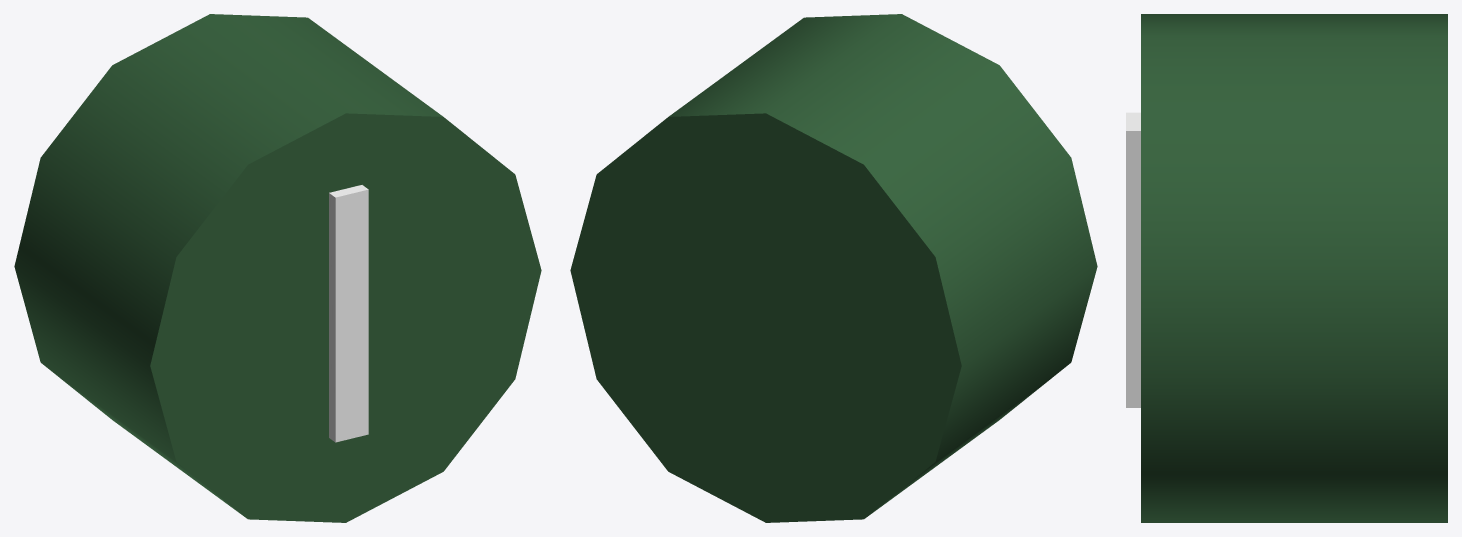
File: acb_inner_btn2.fbx
3 views of the same model, side by side, from view 1: azimuth 30°, elevation 25°; view 2: azimuth 150°, elevation 25°; view 3: azimuth 270°, elevation 25° (orthographic). The views are drawn at different scales.
Parts seen in each view (by area): view 1: acb_inner_btn1; view 2: acb_inner_btn1; view 3: acb_inner_btn1.
Boxes of the visible parts, <box> form: acb_inner_btn1: <box>14,14,541,522</box>; acb_inner_btn1: <box>570,14,1097,522</box>; acb_inner_btn1: <box>1126,14,1447,522</box>.
Size of the model in its own units: 0.024 by 0.024 by 0.0151.
Materials: 1 (1 with a texture image).
